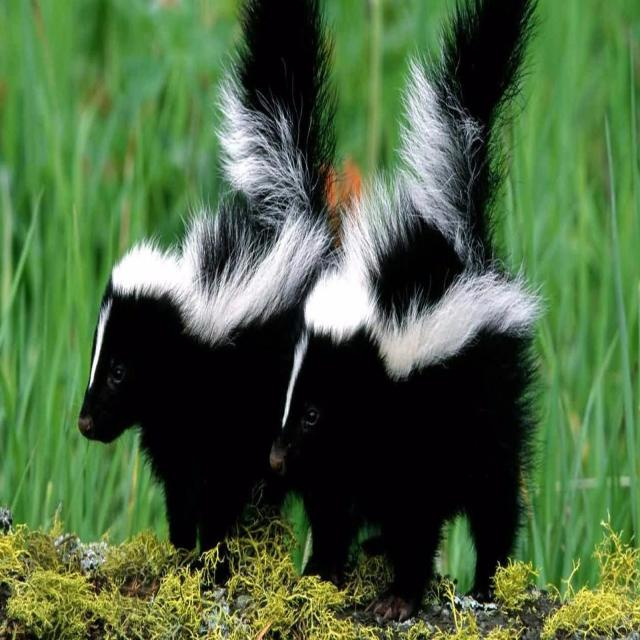Skunk: (271, 0, 566, 622)
